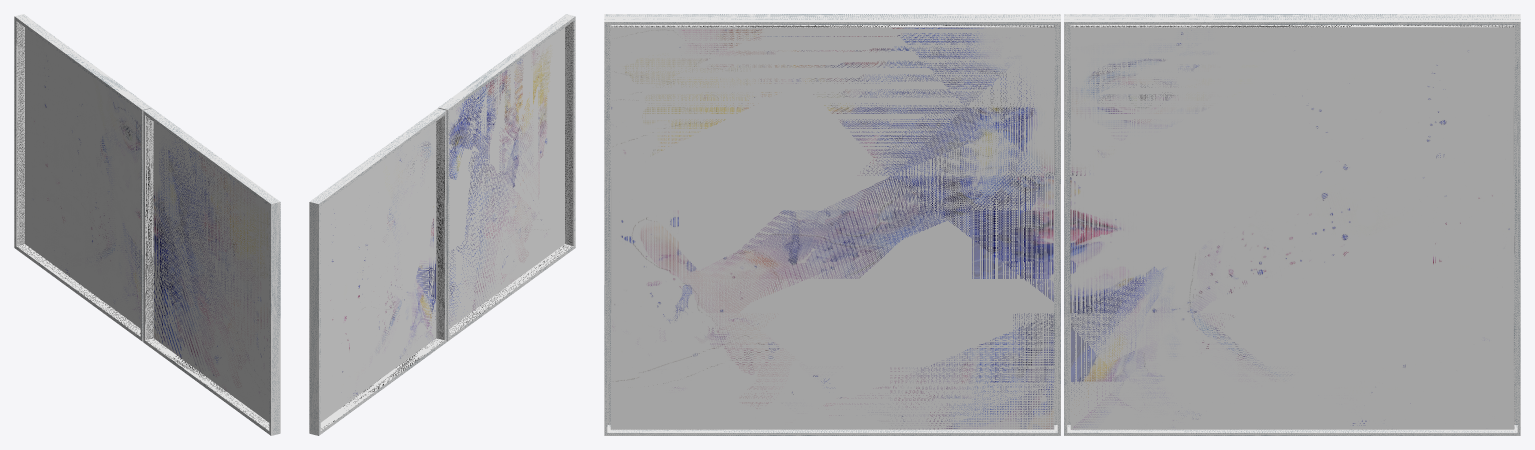
File: art1.dae
3 views of the same model, side by side, from view 1: azimuth 30°, elevation 25°; view 2: azimuth 150°, elevation 25°; view 3: azimuth 270°, elevation 25° (orthographic). The views are drawn at different scales.
Parts seen in each view (by area): view 1: group_0 (×4), group_1 (×4); view 2: group_1 (×4), group_0 (×4); view 3: group_0 (×5), group_1 (×5).
Boxes of the visible parts, x1,y1,x2,y2 form: group_0 (×4): (143,108,280,435); group_1 (×4): (14,14,151,341); group_1 (×4): (309,108,446,435); group_0 (×4): (438,14,575,341); group_0 (×5): (604,14,1060,435); group_1 (×5): (1064,14,1520,435).
Size of the model in its own units: 1.18 by 56.1 by 27.95.
6 materials, 2 textured.
